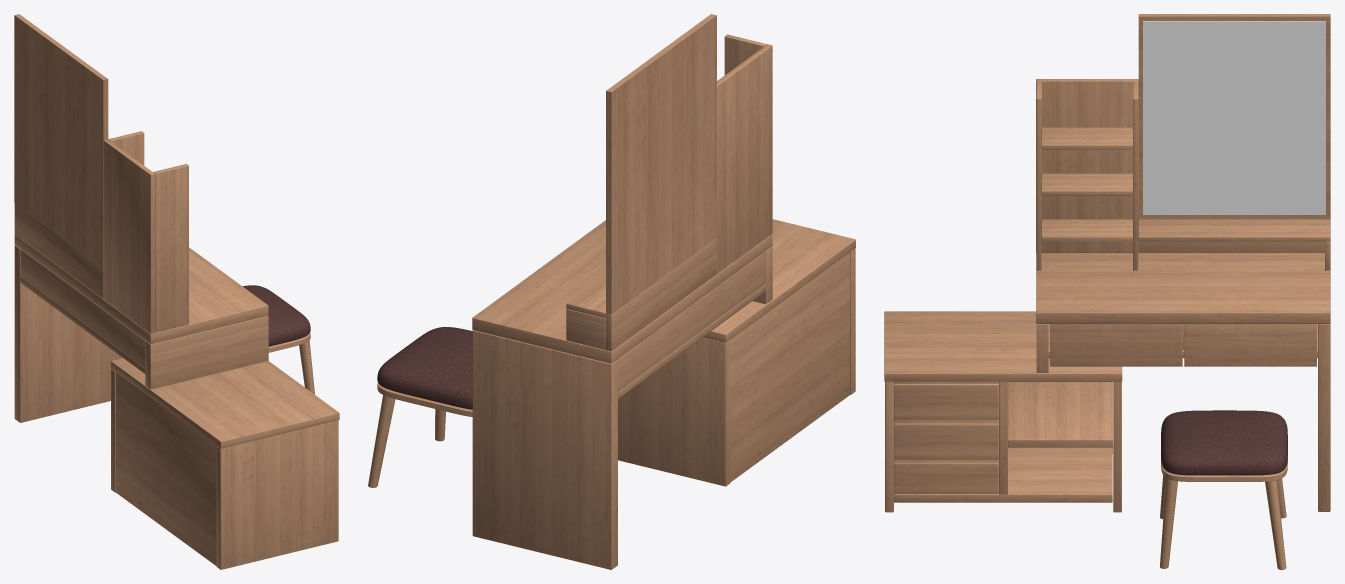
The picture shows the model from 3 angles, left to right: view 1: azimuth 30°, elevation 25°; view 2: azimuth 150°, elevation 25°; view 3: azimuth 270°, elevation 25°; orthographic projection. The views are drawn at different scales.
Visible parts, largest first — view 1: Plane.003_34, Plane.1126_26, Plane.1129_23, Plane.1730_3, Plane.1732_1, Plane.1733_0, Plane.114_14, Plane.1731_2, Plane.1138_16, Plane.1146_7, Plane.004_35, Plane.1112_29 (+4 smaller); view 2: Plane.1732_1, Plane.003_34, Plane.1129_23, Plane.1125_27, Plane.1733_0, Plane.114_14, Plane.1112_29, Plane.1730_3, Plane.1146_7, Plane.004_35, Plane.1141_12, Plane.1145_8 (+5 smaller); view 3: Plane.1144_9, Plane.114_14, Plane.1730_3, Plane.1733_0, Plane.1112_29, Plane.1127_25, Plane.1130_22, Plane.1149_4, Plane.1148_5, Plane.1137_17, Plane.003_34, Plane.1134_19 (+16 smaller).
Part boxes in pixels (<box>): Plane.003_34: <box>14,14,108,267</box>; Plane.1126_26: <box>216,420,338,569</box>; Plane.1129_23: <box>115,372,216,565</box>; Plane.1730_3: <box>111,358,339,448</box>; Plane.1732_1: <box>14,245,122,422</box>; Plane.1733_0: <box>103,139,155,333</box>; Plane.114_14: <box>14,235,268,343</box>; Plane.1731_2: <box>145,316,268,389</box>; Plane.1138_16: <box>153,164,188,332</box>; Plane.1146_7: <box>20,249,145,367</box>; Plane.004_35: <box>14,203,103,298</box>; Plane.1112_29: <box>243,285,310,346</box>; Plane.1732_1: <box>472,330,617,569</box>; Plane.003_34: <box>606,14,716,314</box>; Plane.1129_23: <box>730,252,849,481</box>; Plane.1125_27: <box>618,337,730,486</box>; Plane.1733_0: <box>716,44,772,274</box>; Plane.114_14: <box>472,220,772,363</box>; Plane.1112_29: <box>377,327,472,409</box>; Plane.1730_3: <box>703,219,855,342</box>; Plane.1146_7: <box>618,251,765,391</box>; Plane.004_35: <box>606,238,716,351</box>; Plane.1141_12: <box>566,309,605,349</box>; Plane.1145_8: <box>618,284,765,398</box>; Plane.1144_9: <box>1143,21,1325,214</box>; Plane.114_14: <box>1036,253,1330,323</box>; Plane.1730_3: <box>884,311,1122,381</box>; Plane.1733_0: <box>1036,79,1138,252</box>; Plane.1112_29: <box>1161,410,1287,475</box>; Plane.1127_25: <box>894,447,1112,502</box>; Plane.1130_22: <box>1008,382,1112,447</box>; Plane.1149_4: <box>1184,324,1316,366</box>; Plane.1148_5: <box>1050,324,1182,366</box>; Plane.1137_17: <box>1138,219,1330,241</box>; Plane.003_34: <box>1138,14,1330,219</box>; Plane.1134_19: <box>894,420,998,459</box>.
Size of the model in its own units: 1.11 by 1.88 by 1.74.
4 materials, 3 textured.
